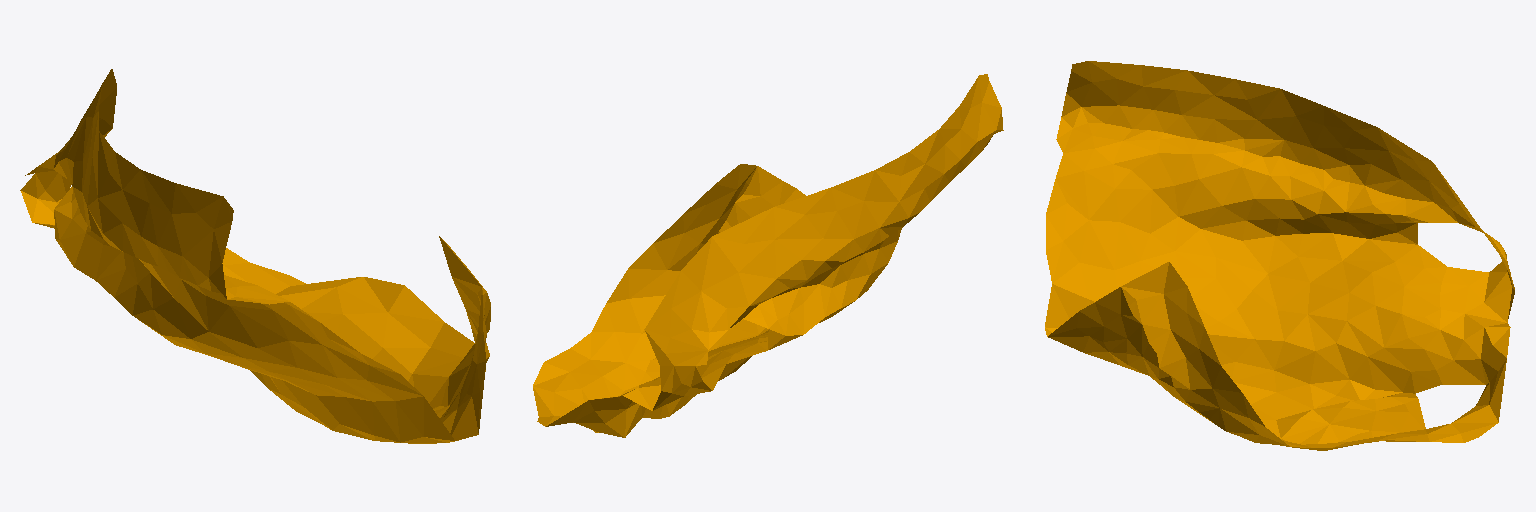
The robot description file, URDF, robot "init":
<?xml version='1.0' encoding='utf-8'?>
<robot name="init">
<link name="link_0"><inertial><mass value="1.0" /><origin rpy="0 0 0" xyz="0.000000 0.000000 0.000000" /><inertia ixx="1.0" ixy="0.0" ixz="0.0" iyy="1.0" iyz="0.0" izz="1.0" /></inertial><visual><origin rpy="0 0 0" xyz="0.000000 0.000000 0.000000" /><geometry><mesh filename="./clothHuman/cloth/681.obj" /></geometry></visual><collision><origin rpy="0 0 0" xyz="0.000000 0.000000 0.000000" /><geometry><mesh filename="./clothHuman/cloth/681.obj" /></geometry></collision></link></robot>

--- Render facts (derived) ---
3 views of the same robot in one strip: view 1: azimuth 30°, elevation 25°; view 2: azimuth 150°, elevation 25°; view 3: azimuth 270°, elevation 25° (orthographic).
Model init with 1 links and 0 joints (none), rooted at link_0, posed all joints at 0.
Links seen in each view (by area): view 1: link_0; view 2: link_0; view 3: link_0.
Link boxes in pixels (bbox=[...]): link_0: bbox=[20, 69, 490, 443]; link_0: bbox=[533, 74, 1003, 437]; link_0: bbox=[1045, 61, 1514, 450].
Size in the robot's own frame: 2.8 by 3.85 by 2.51 metres.
1 mesh visuals loaded from 1 distinct referenced files (1 OBJ).